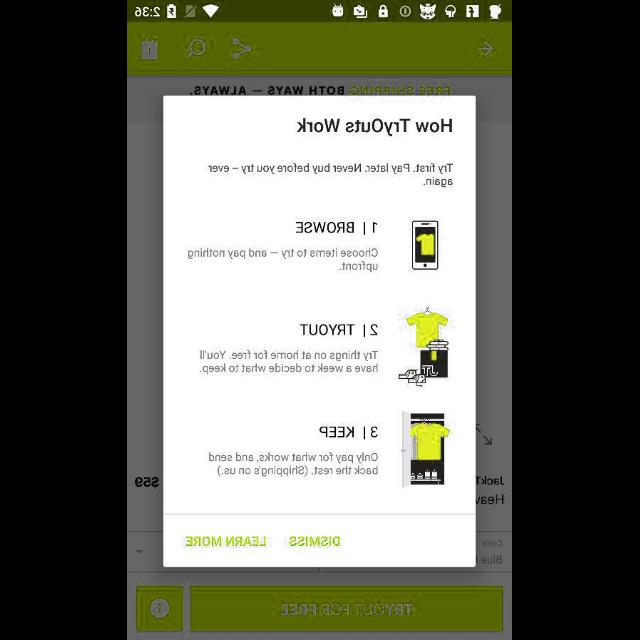icon: (137, 586, 185, 632), (142, 38, 160, 60), (234, 39, 252, 60), (188, 40, 206, 59), (479, 43, 493, 57)
image: (399, 308, 449, 387), (401, 410, 451, 488), (413, 220, 439, 270)
panel: (164, 97, 476, 568)
text: (209, 164, 453, 188), (189, 248, 379, 272), (200, 350, 378, 374), (210, 452, 378, 476), (296, 114, 452, 138), (300, 324, 378, 338), (296, 222, 378, 235), (320, 426, 378, 440), (187, 538, 267, 546), (290, 538, 340, 546)
textbutton: (191, 586, 503, 632)
uppertaskbar: (128, 1, 512, 23)
